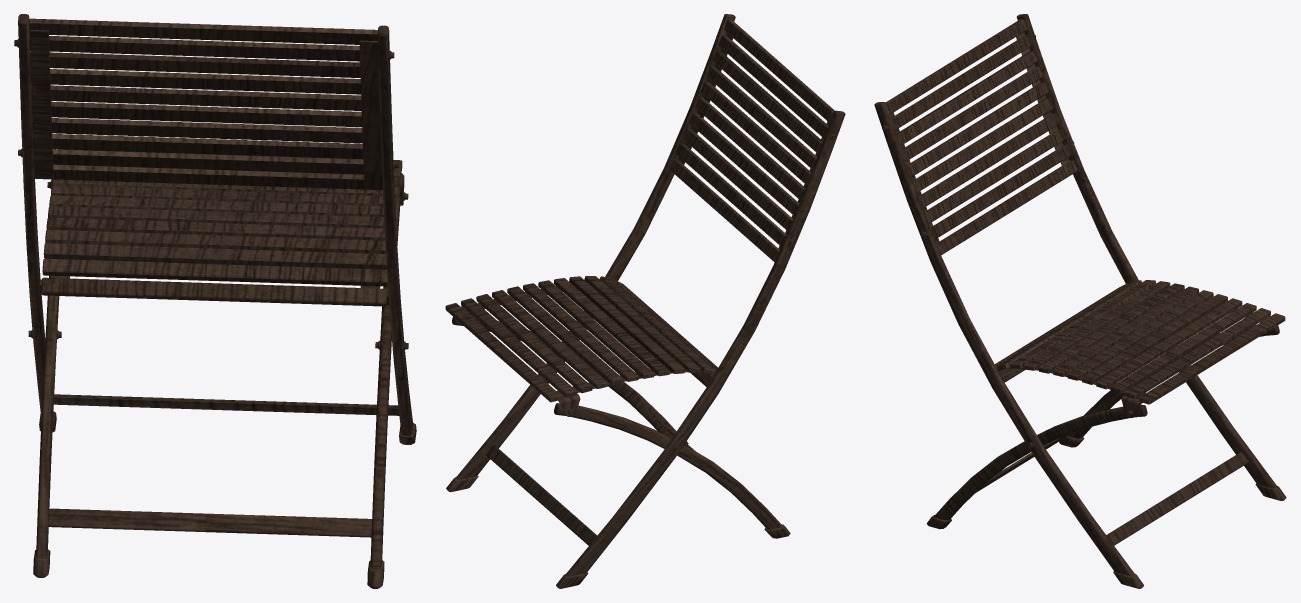
The model's file is Silla1S4.obj.
The picture shows the model from 3 angles, left to right: view 1: azimuth 30°, elevation 25°; view 2: azimuth 150°, elevation 25°; view 3: azimuth 270°, elevation 25°; orthographic projection. The views are drawn at different scales.
Visible parts, largest first — view 1: Silla1S4; view 2: Silla1S4; view 3: Silla1S4.
Boxes of the visible parts, x1,y1,x2,y2 form: Silla1S4: (14,14,416,588); Silla1S4: (445,14,845,588); Silla1S4: (874,14,1286,588).
Bounding box in the file's own units: 3.86 × 4.54 × 4.1.
1 material, 1 textured.
